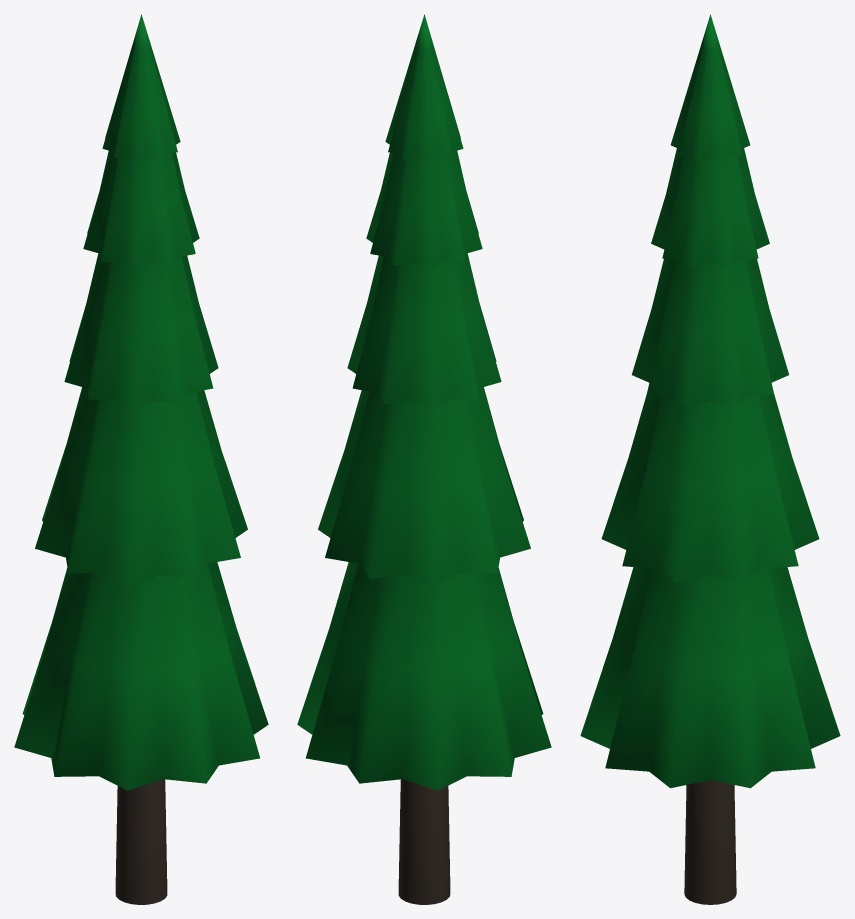
Rendered from Pine3.fbx.
3 views of the same model, side by side, from view 1: azimuth 30°, elevation 25°; view 2: azimuth 150°, elevation 25°; view 3: azimuth 270°, elevation 25° (orthographic).
Parts seen in each view (by area): view 1: Pine3; view 2: Pine3; view 3: Pine3.
Boxes of the visible parts, box(x1,y1,x2,y2) form: Pine3: box(14, 14, 268, 904); Pine3: box(297, 14, 551, 904); Pine3: box(580, 14, 840, 904).
Bounding box in the file's own units: 3.84 × 15.08 × 4.04.
